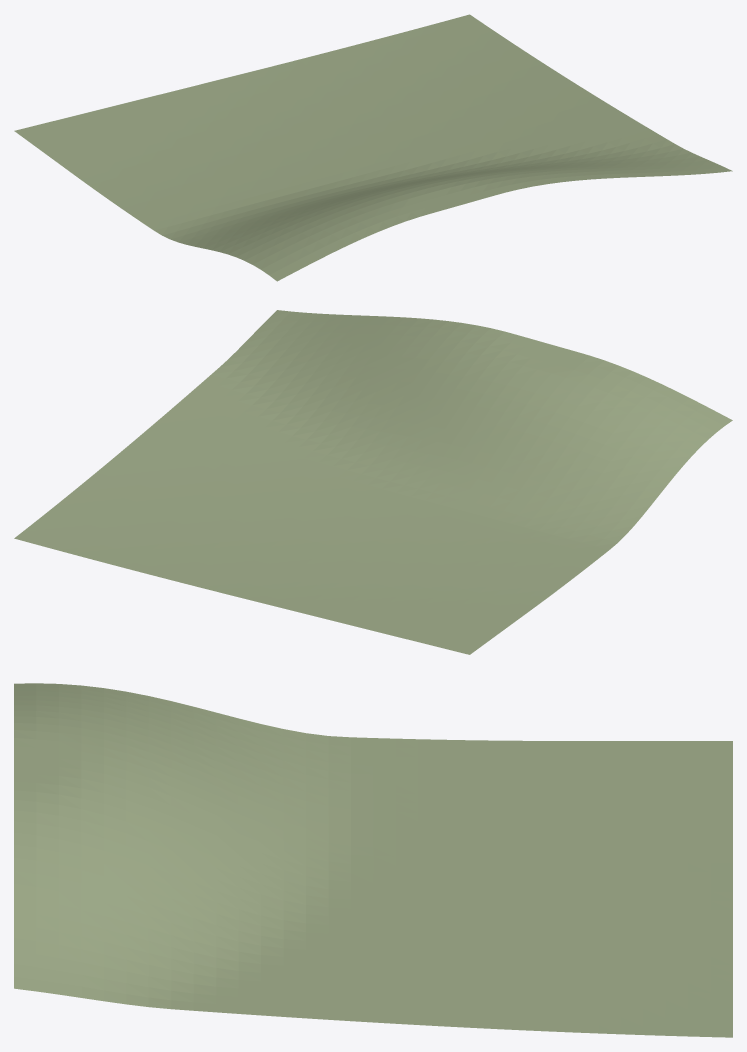
File: desert-8-25.glb
The picture shows the model from 3 angles, top to bottom: view 1: azimuth 30°, elevation 25°; view 2: azimuth 150°, elevation 25°; view 3: azimuth 270°, elevation 25°; orthographic projection. The views are drawn at different scales.
Parts seen in each view (by area): view 1: desert-8-25; view 2: desert-8-25; view 3: desert-8-25.
Part boxes in pixels (bbox=[...]): desert-8-25: bbox=[14, 14, 732, 281]; desert-8-25: bbox=[14, 310, 732, 654]; desert-8-25: bbox=[14, 683, 732, 1037].
Bounding box in the file's own units: 512 × 80.69 × 512.
